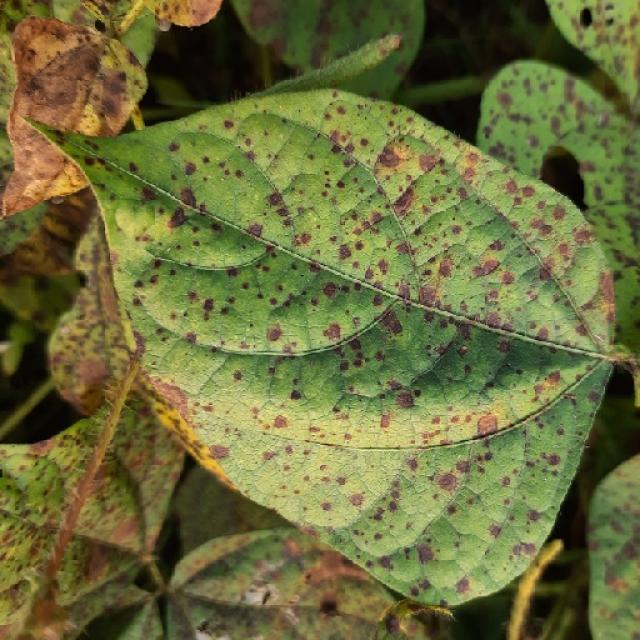Anthracnose: (21, 45, 95, 122), (246, 0, 285, 39), (471, 404, 503, 445), (596, 267, 618, 320), (391, 185, 416, 213), (470, 256, 500, 279), (380, 308, 404, 335), (418, 281, 440, 307), (176, 186, 198, 210), (167, 204, 188, 228), (436, 471, 458, 492), (416, 544, 435, 565), (323, 322, 342, 341), (395, 391, 415, 409), (607, 577, 629, 593), (208, 444, 229, 460), (396, 281, 412, 301), (246, 221, 264, 238), (454, 577, 471, 594), (321, 282, 338, 298), (267, 326, 283, 342), (497, 91, 513, 107), (273, 414, 289, 429), (267, 192, 283, 207), (487, 523, 503, 538), (182, 161, 197, 177), (338, 244, 352, 260), (348, 493, 364, 506), (587, 389, 601, 403), (597, 111, 609, 127), (202, 298, 215, 312), (547, 453, 561, 466), (526, 135, 539, 149), (380, 413, 391, 428), (289, 389, 302, 401), (184, 332, 197, 344), (168, 141, 180, 153), (232, 370, 243, 381), (320, 502, 332, 512), (223, 120, 234, 130), (354, 241, 364, 251)
Blackgram: (50, 90, 612, 604)
